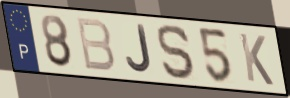5: (196, 25, 234, 86)
8: (39, 13, 74, 70)
B: (74, 15, 117, 74)
J: (124, 23, 154, 75)
K: (237, 31, 276, 88)
S: (156, 23, 198, 82)
